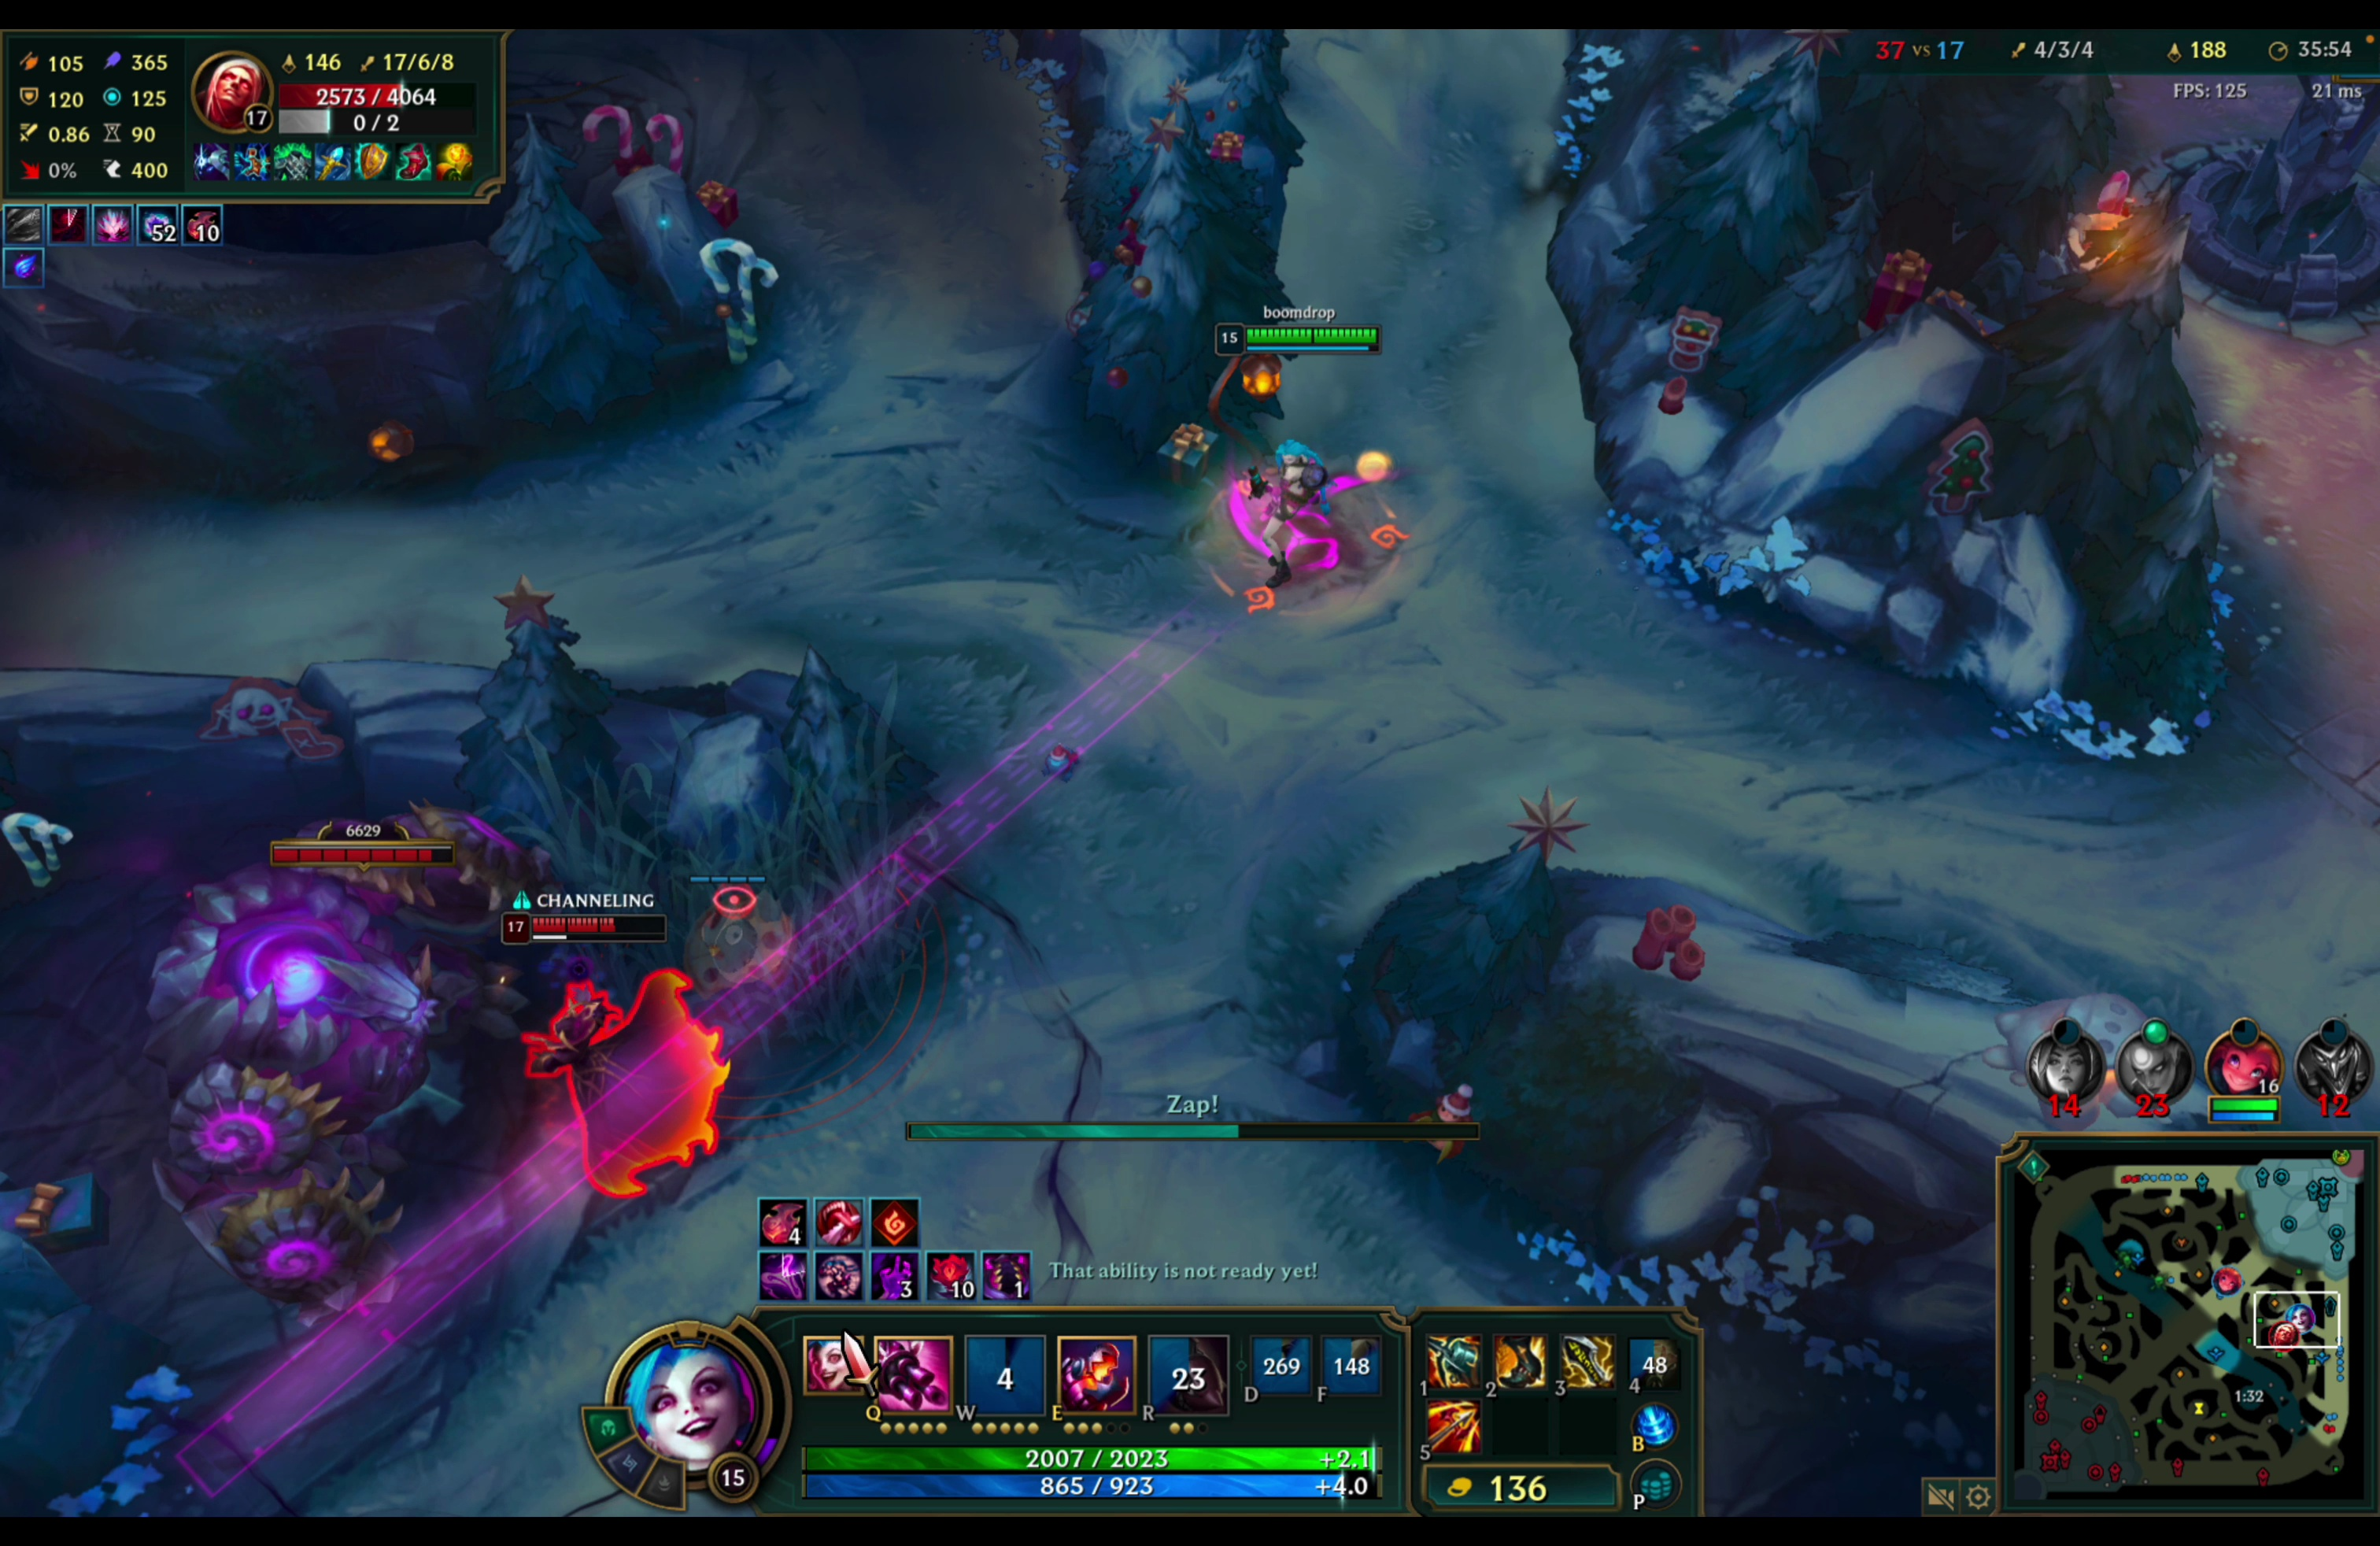JINX_W_PROJECTILE: (1147, 298, 1435, 637)
